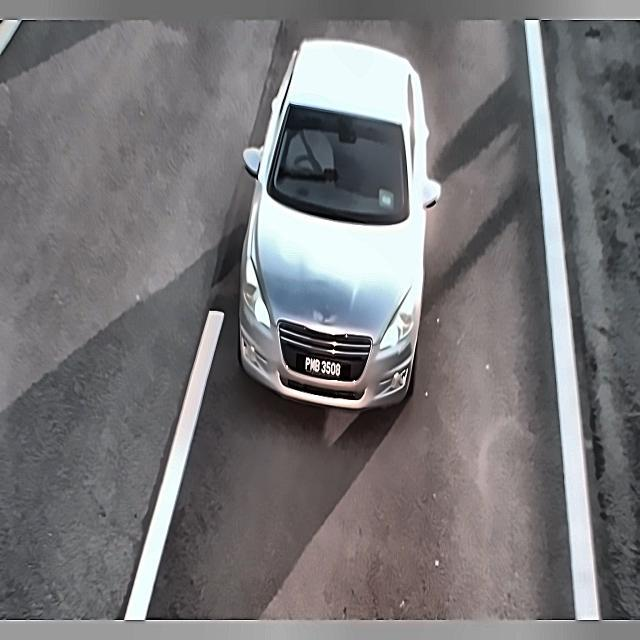car: (291, 345, 354, 388)
